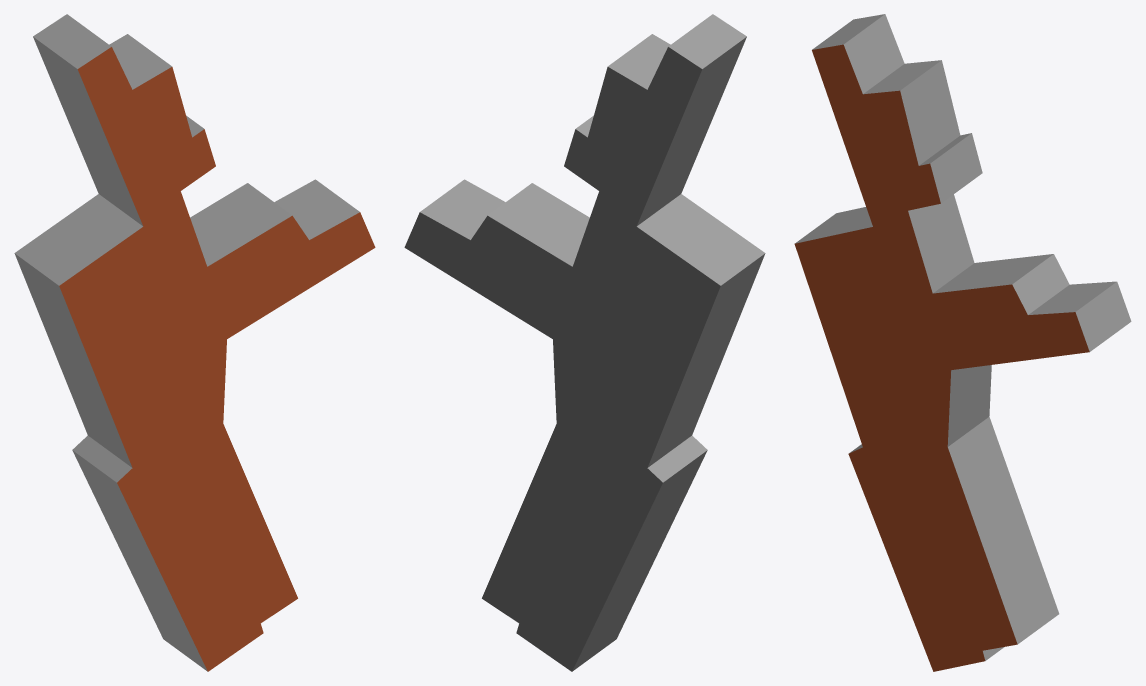
Rendered from construction_3697_assumed_A_Casa_h6m.obj.
3 views of the same model, side by side, from view 1: azimuth 30°, elevation 25°; view 2: azimuth 150°, elevation 25°; view 3: azimuth 330°, elevation 25° (orthographic). The views are drawn at different scales.
Visible parts, largest first — view 1: construction_3697_assumed_A_Casa; view 2: construction_3697_assumed_A_Casa; view 3: construction_3697_assumed_A_Casa.
Part boxes in pixels (x1,y1,x2,y2): construction_3697_assumed_A_Casa: [14, 14, 375, 671]; construction_3697_assumed_A_Casa: [404, 14, 765, 671]; construction_3697_assumed_A_Casa: [794, 14, 1131, 671].
Bounding box in the file's own units: 24.5 × 48.01 × 6.
